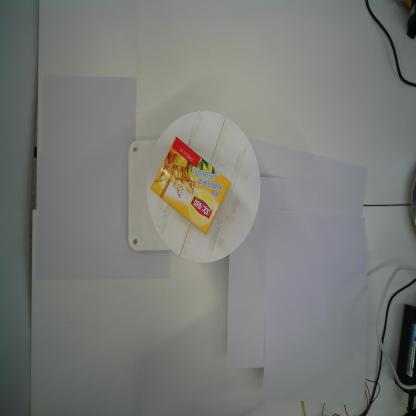Instant Drink: (149, 136, 232, 238)
